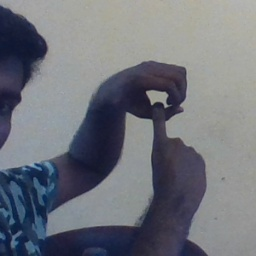Q: (103, 54, 211, 185)
